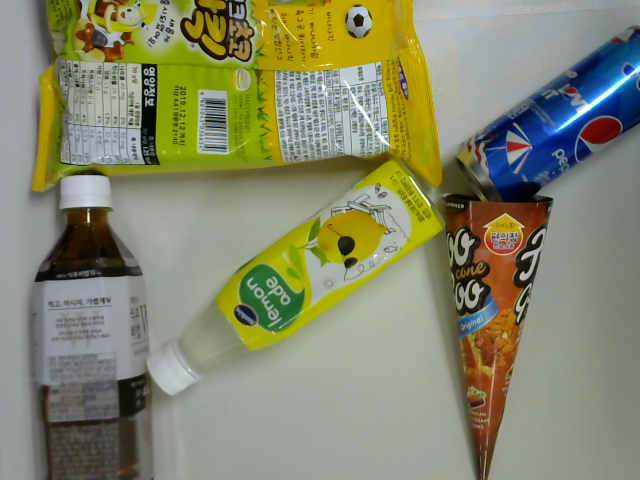Banana_Kick: (29, 1, 446, 196)
GooGoo_Cone_CVS: (449, 192, 552, 480)
Pepsi_Cola_Can_250ml: (452, 28, 640, 211)
Post-meal_recipe_W_tea_500ml: (24, 175, 158, 480)
Sunkist_Lemonaid_Pet: (144, 155, 454, 399)
